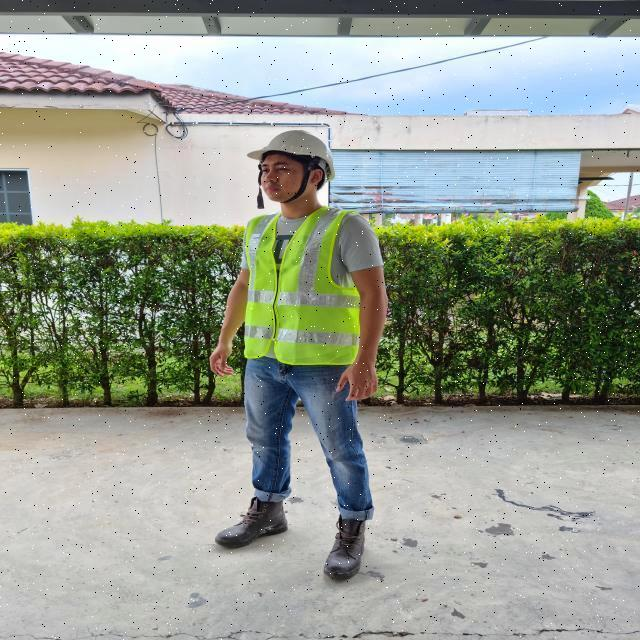Hard_hat: (249, 126, 340, 180)
Person: (208, 123, 391, 587)
Vest: (248, 213, 368, 370)
